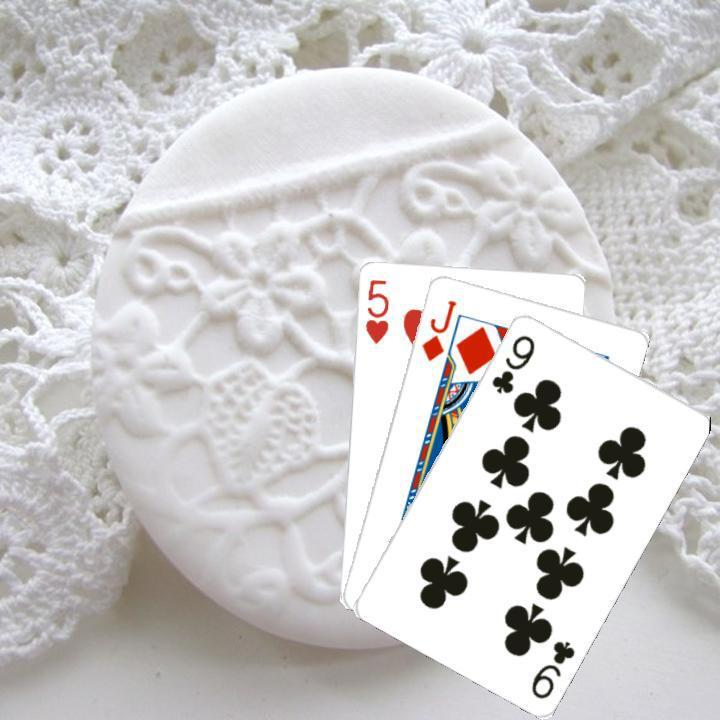5: (360, 274, 390, 345)
9: (526, 635, 577, 701), (487, 330, 537, 396)
J: (416, 295, 459, 363)
